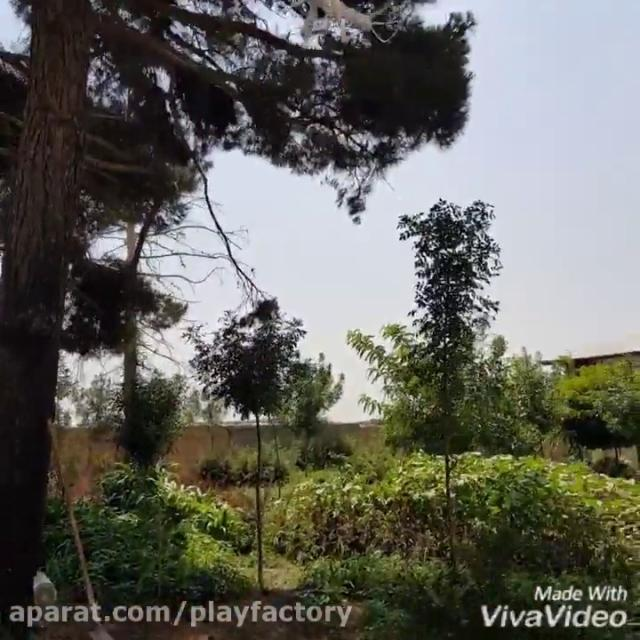drone: (287, 0, 400, 45)
